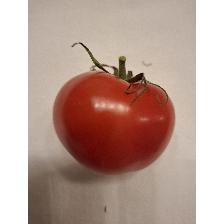Tomate: (47, 35, 179, 177)
